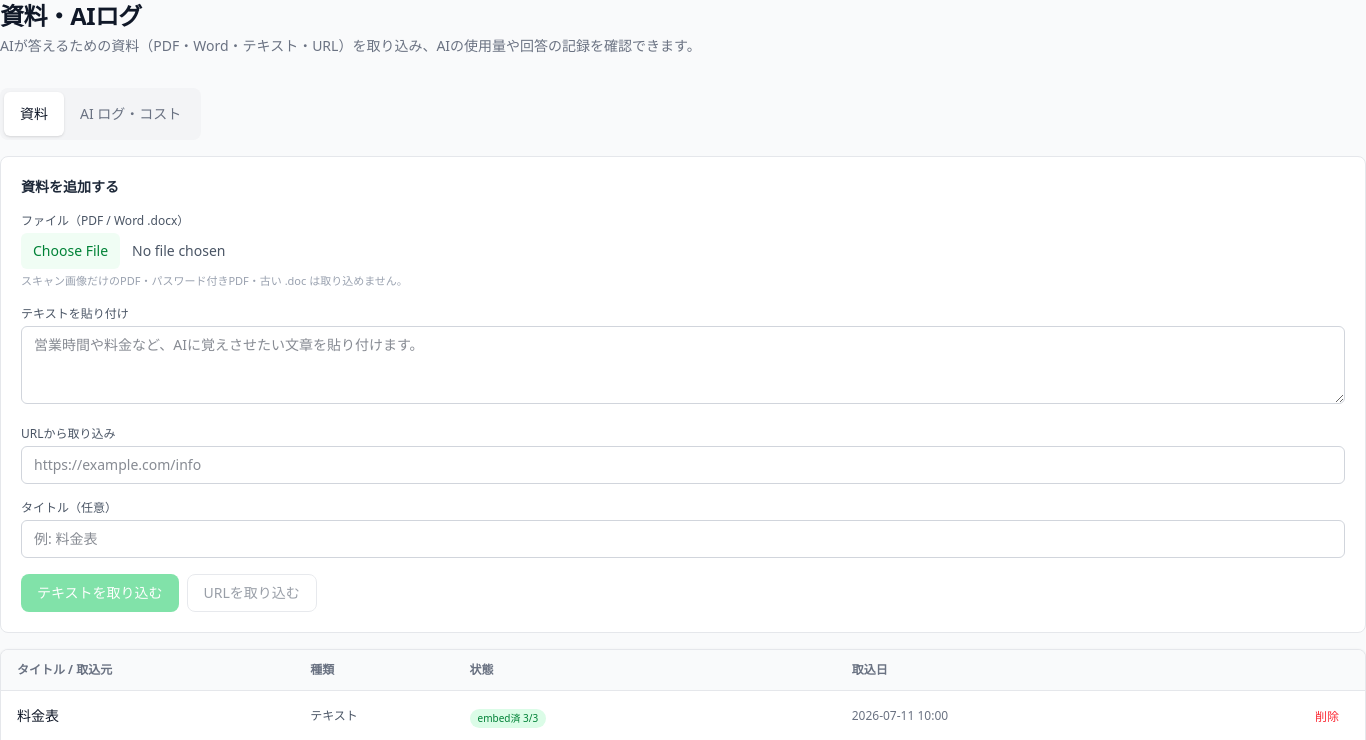
Scenario: /knowledge page — AI ログ・コストタブ › answerable=false の草案だけに資料不足ラベルを表示する
Check: the text "料金表" is shown, box top-left (17, 706), bottom-right (59, 724)
Click the button "AI ログ・コスト" at (131, 114), box top-left (64, 92), bottom-right (197, 136)
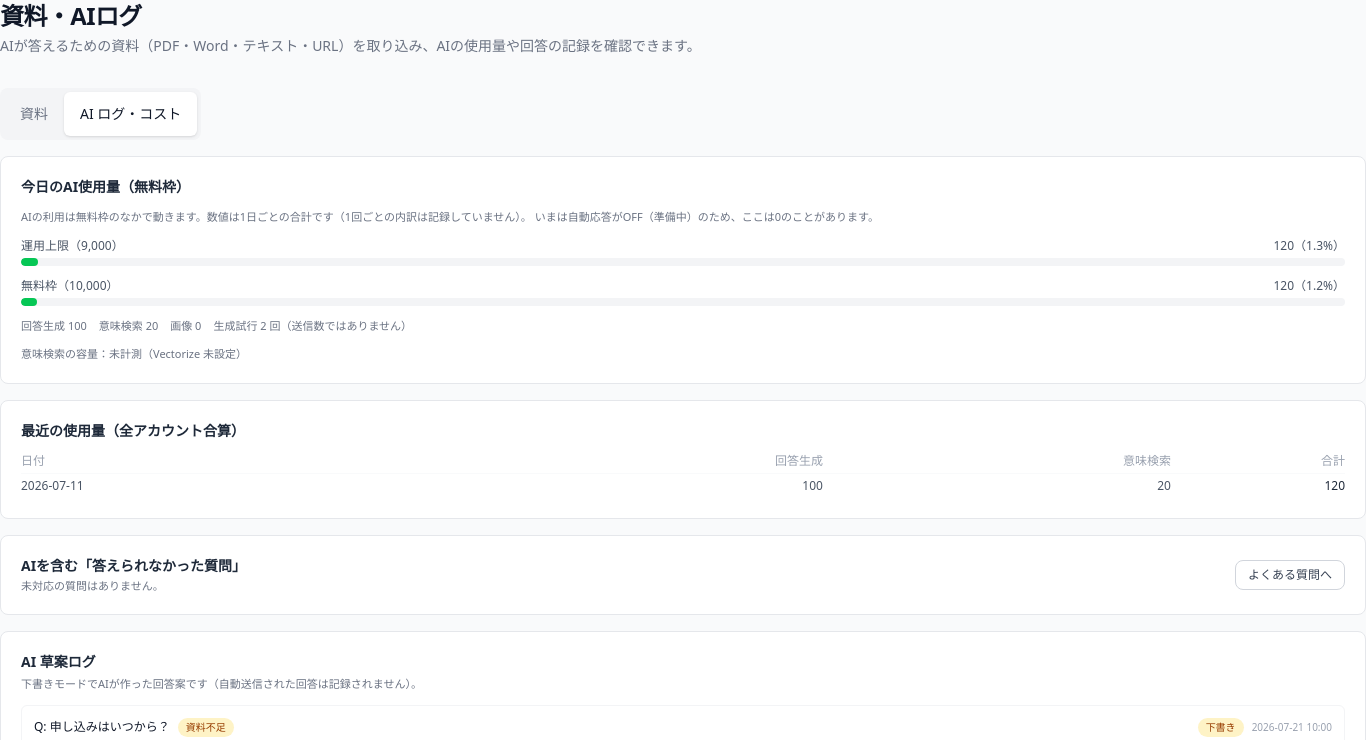
Check: the text "資料不足" is shown once, box top-left (178, 718), bottom-right (234, 736)
